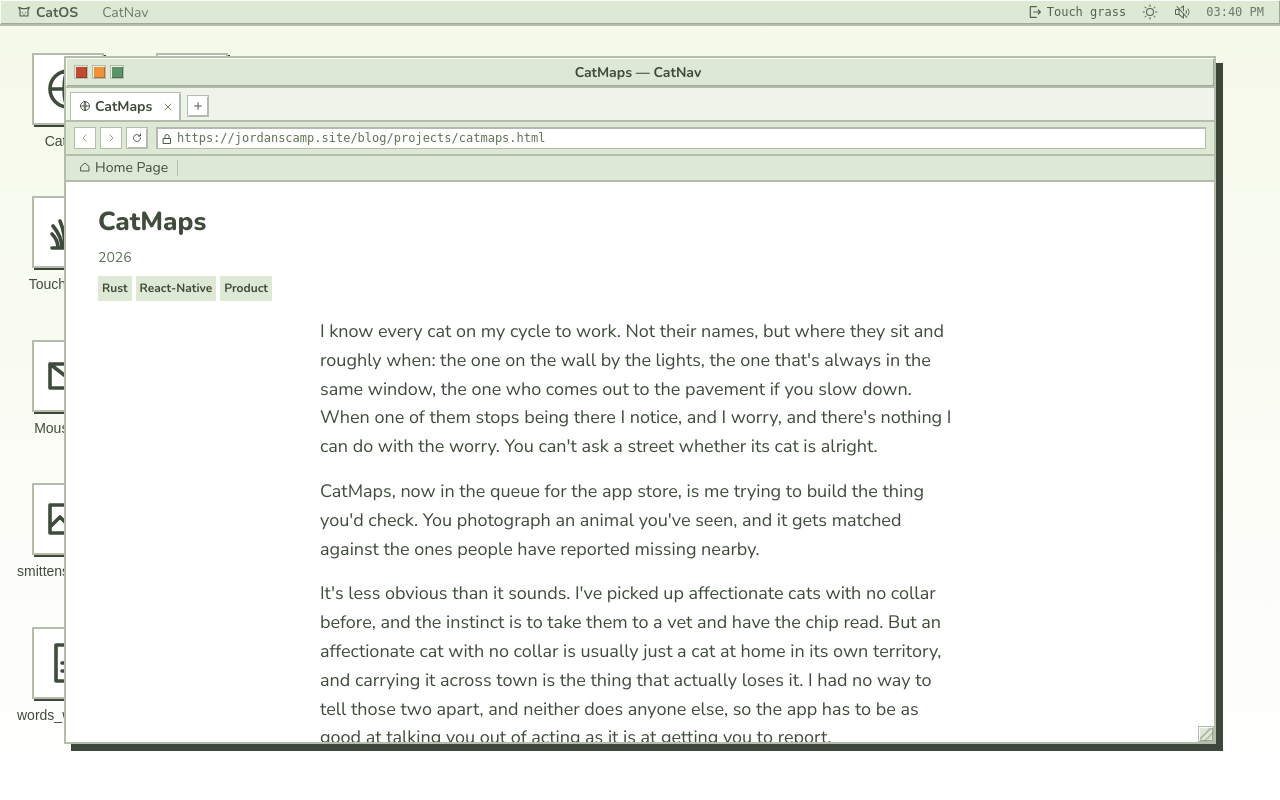
Scenario: LaptopScreenOverlay (CatOS) › the browser window › closing the last remaining tab navigates back to the bare blog route
What coordinates should you click on to do the following:
click the button named "Close CatMaps"
I would click on:
 (168, 106)
Its box is [160,98,176,114].
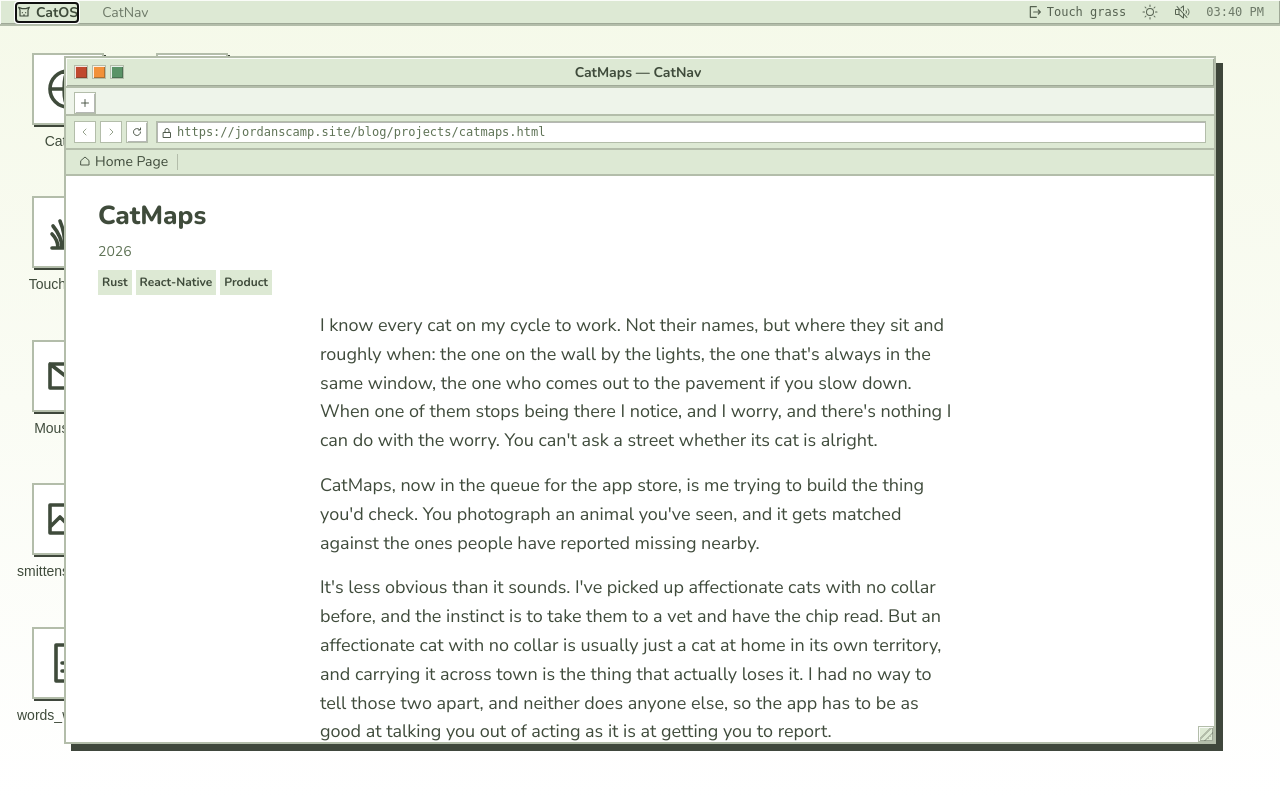
Expected: the text with test id "path" reads "/blog", [0,0,37,22]
